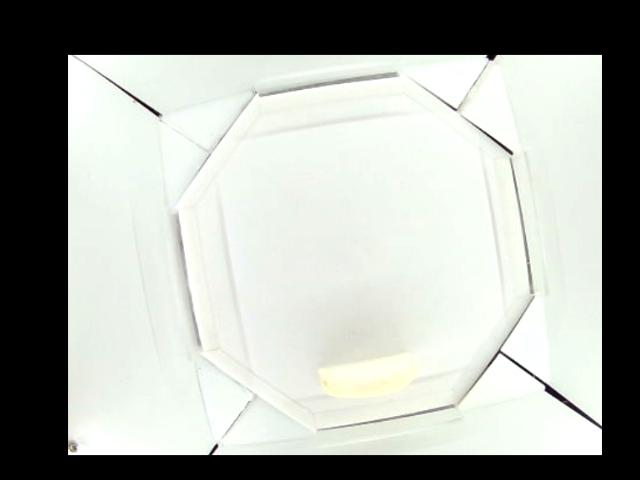Mooli: (315, 350, 415, 395)
